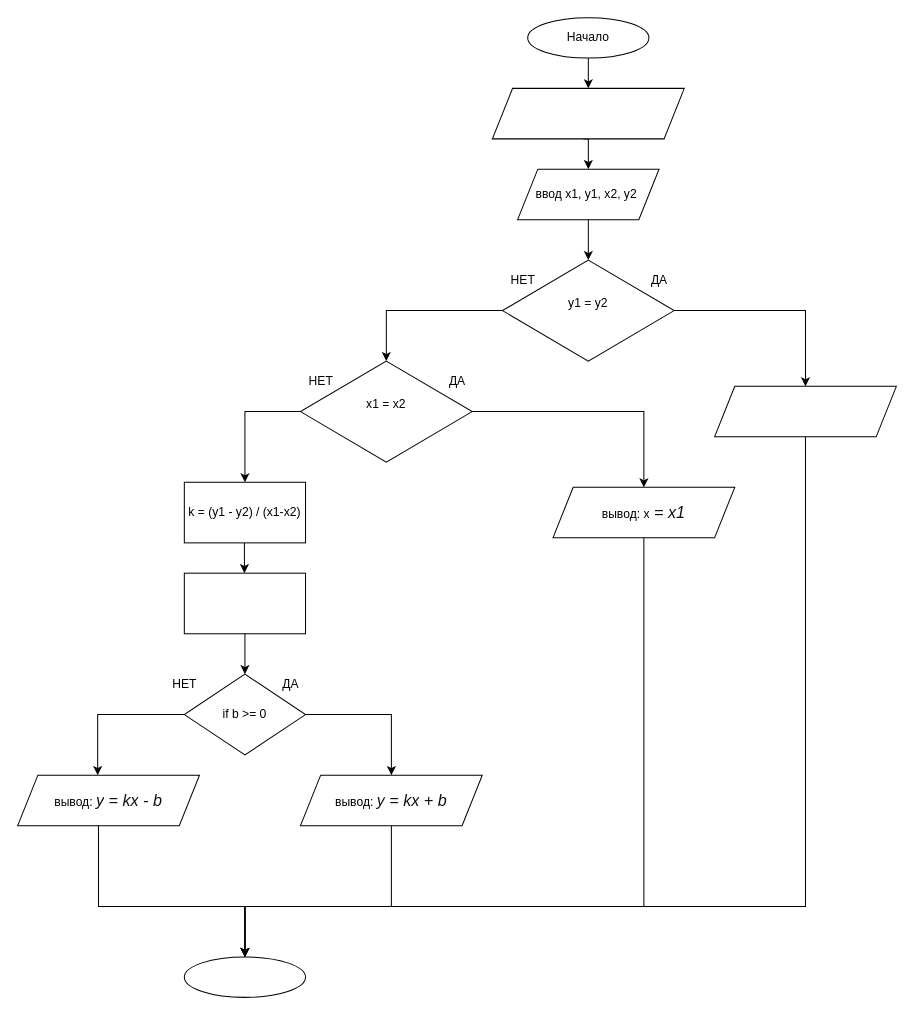
This 914x1015 diagram has some shape labels left out. Each missing label, with the centre of its shape:
b = y2 - k* x2: (x=244, y=603)
вывод: y = y1: (x=805, y=411)
вывод: введите коордионаты 2-х точек: (x=587, y=113)
Конец: (x=244, y=976)
